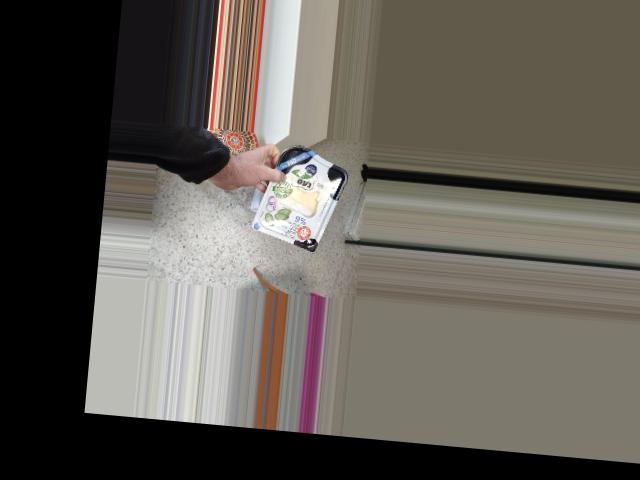cheese: (265, 150, 341, 246)
